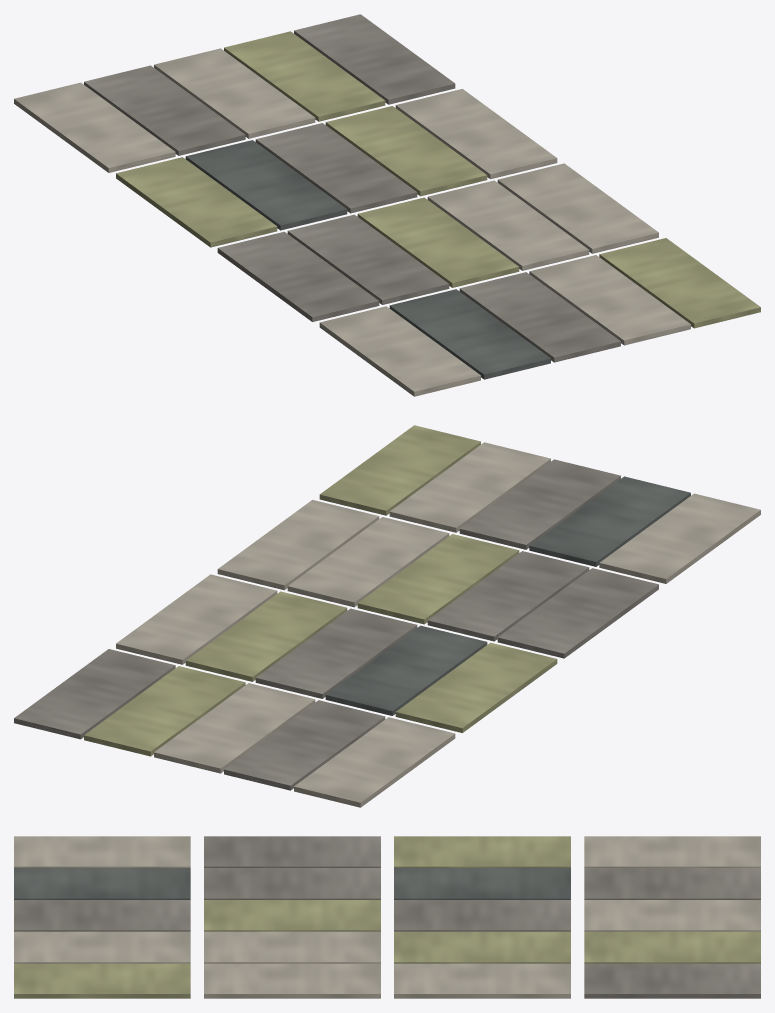
Rendered from road_stone_tiles.fbx.
The picture shows the model from 3 angles, top to bottom: view 1: azimuth 30°, elevation 25°; view 2: azimuth 150°, elevation 25°; view 3: azimuth 270°, elevation 25°; orthographic projection. The views are drawn at different scales.
Parts seen in each view (by area): view 1: road_stone_tiles; view 2: road_stone_tiles; view 3: road_stone_tiles.
Part boxes in pixels (<box>): road_stone_tiles: <box>14,14,760,396</box>; road_stone_tiles: <box>14,425,760,807</box>; road_stone_tiles: <box>14,836,760,998</box>.
Size of the model in its own units: 300 by 4.1 by 600.
1 material, 1 textured.
